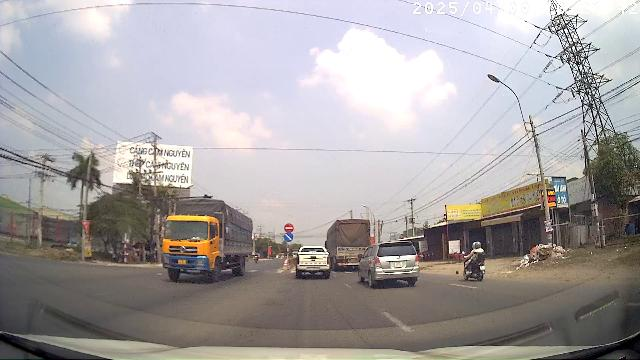102-cam-di-nguoc-chieu: (284, 224, 294, 232)
302a-huong-phai-di-vong-chuong-ngai-vat-1: (284, 232, 294, 241)
